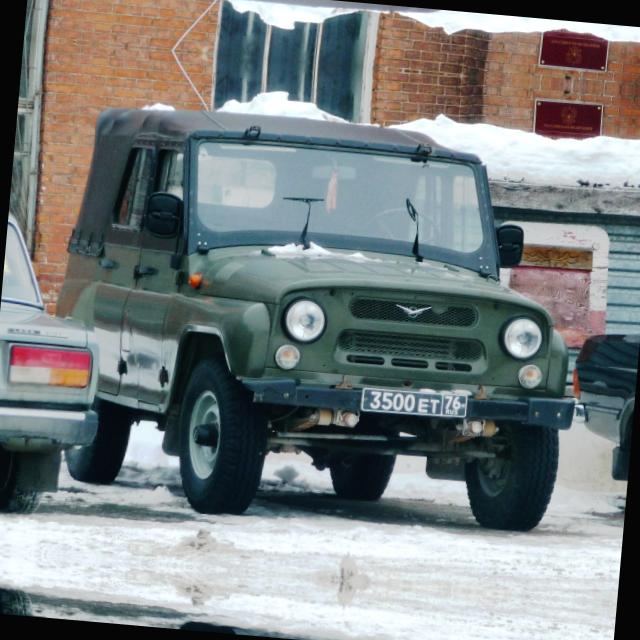military: (353, 382, 472, 423)
